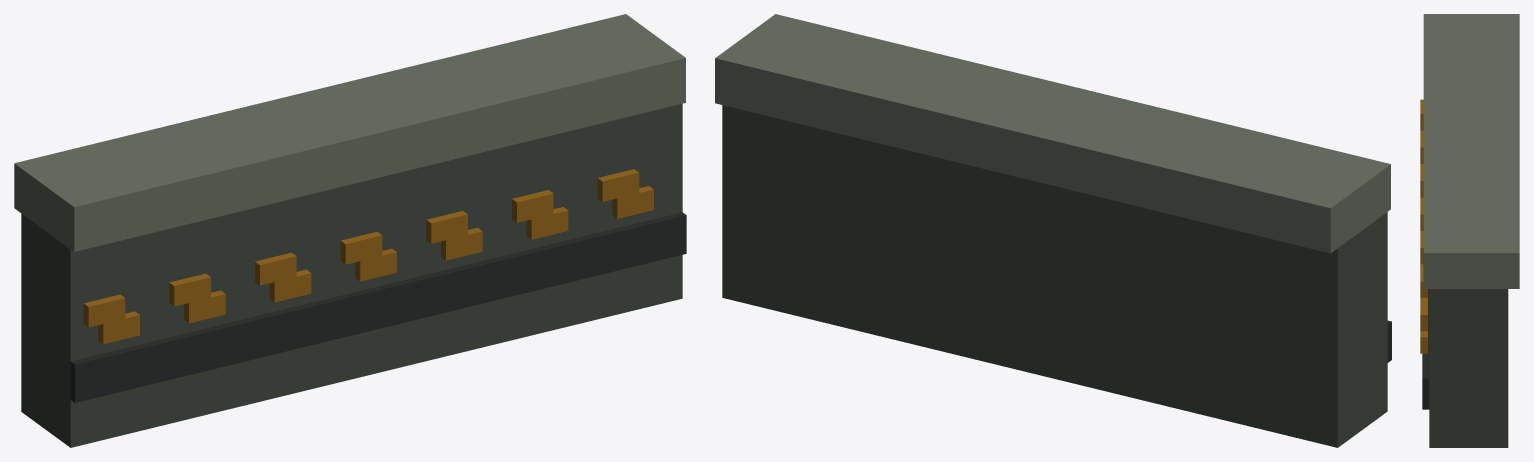
The model's file is CMU3DPlatformStairRight.glb.
3 renders of one model, left to right at view 1: azimuth 30°, elevation 25°; view 2: azimuth 150°, elevation 25°; view 3: azimuth 270°, elevation 25°, orthographic. The views are drawn at different scales.
Visible parts, largest first — view 1: south edge fascia, south edge cap, front lower seam, yellow slanted edge marker (×14); view 2: south edge fascia, south edge cap; view 3: south edge cap, south edge fascia, yellow slanted edge marker (×8), front lower seam.
Part boxes in pixels (<box>): south edge fascia: <box>21,103,682,447</box>; south edge cap: <box>14,14,685,251</box>; front lower seam: <box>70,212,686,402</box>; yellow slanted edge marker (×14): <box>83,169,653,344</box>; south edge fascia: <box>722,105,1387,447</box>; south edge cap: <box>715,14,1390,253</box>; south edge cap: <box>1423,14,1519,288</box>; south edge fascia: <box>1429,289,1508,447</box>; yellow slanted edge marker (×8): <box>1420,99,1427,353</box>; front lower seam: <box>1422,289,1429,409</box>.
Bounding box in the file's own units: 1 × 0.38 × 0.176.
